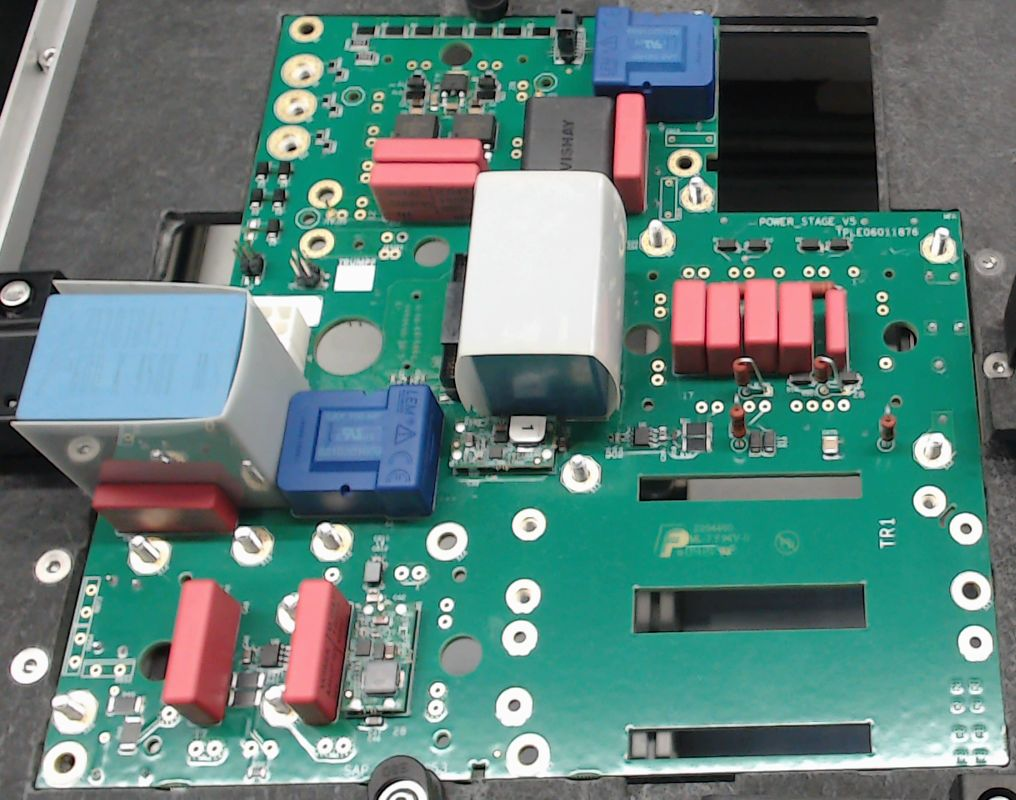comp1: (274, 383, 444, 518), (594, 5, 716, 120)
comp2: (162, 579, 242, 724), (286, 578, 351, 723), (87, 485, 242, 537), (368, 165, 477, 224), (668, 279, 708, 376), (612, 93, 644, 214), (705, 278, 744, 373), (743, 279, 779, 375), (781, 279, 813, 375), (369, 138, 485, 162), (823, 287, 848, 361)
comp3: (518, 94, 613, 174)
comp4: (13, 277, 315, 512), (453, 170, 626, 422)
